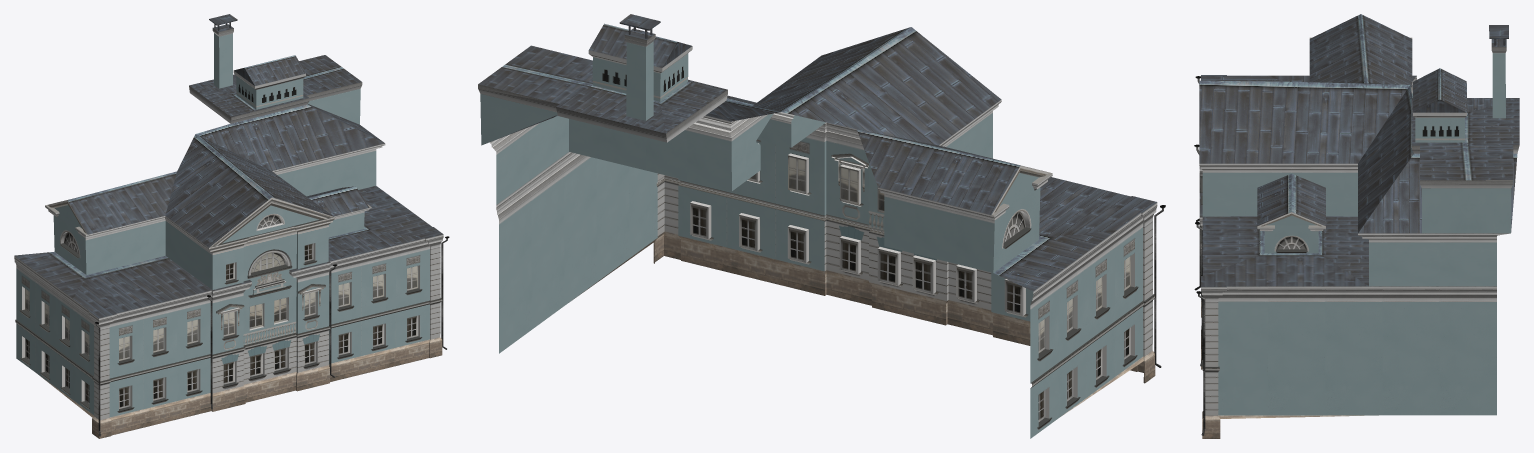
The model's file is alleyHouse2.fbx.
3 renders of one model, left to right at view 1: azimuth 30°, elevation 25°; view 2: azimuth 150°, elevation 25°; view 3: azimuth 270°, elevation 25°, orthographic. The views are drawn at different scales.
Visible parts, largest first — view 1: pasted__House_2_lod_0; view 2: pasted__House_2_lod_0; view 3: pasted__House_2_lod_0.
Boxes of the visible parts, box(x1,y1,x2,y2) form: pasted__House_2_lod_0: box(14, 14, 449, 438); pasted__House_2_lod_0: box(478, 14, 1165, 438); pasted__House_2_lod_0: box(1194, 14, 1519, 438).
Bounding box in the file's own units: 30.84 × 22.78 × 19.44.
